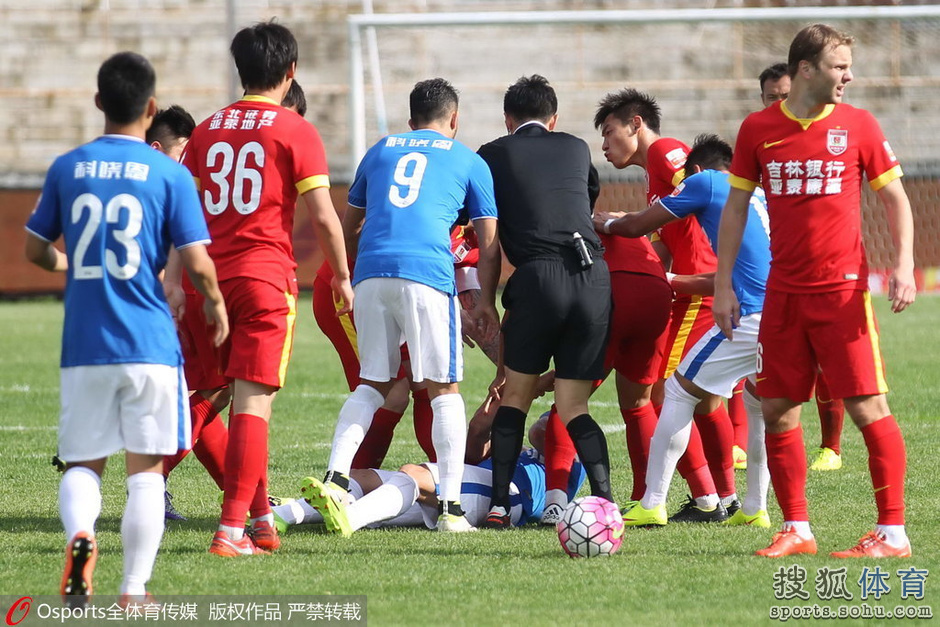fall: (275, 422, 582, 536)
